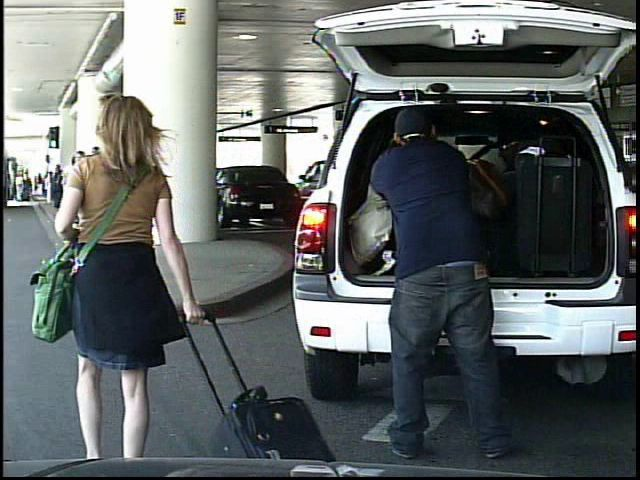person: (363, 101, 524, 460), (77, 88, 230, 452), (301, 165, 314, 202), (14, 173, 25, 204), (36, 174, 46, 201)
